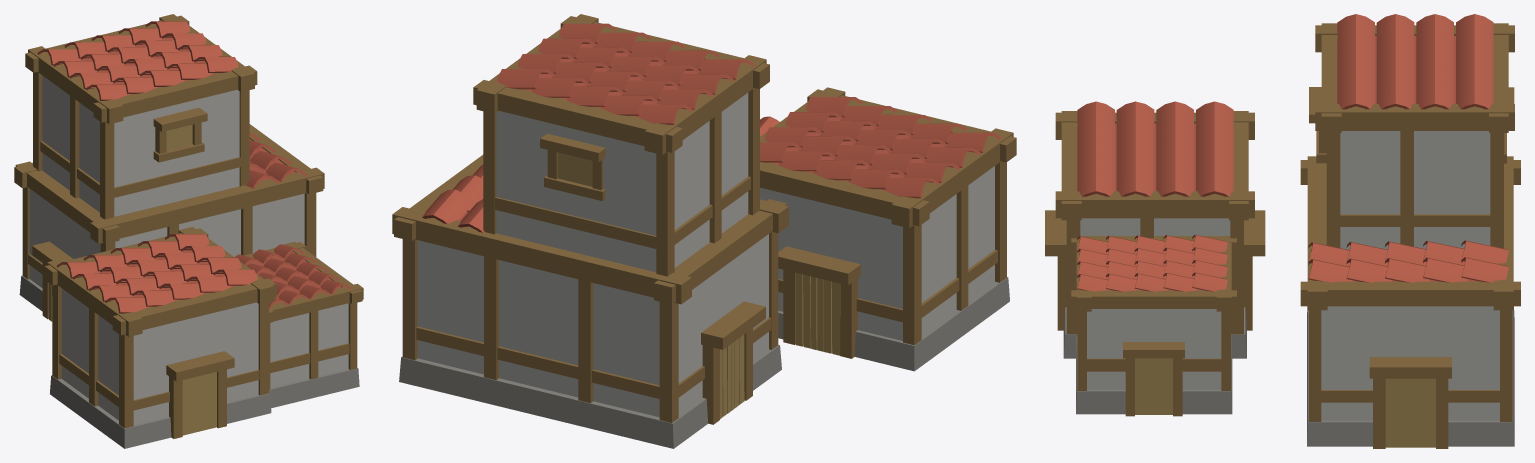
File: quaternius-real-time-strategy-houses-second-age-3-level-3.glb
3 views of the same model, side by side, from view 1: azimuth 30°, elevation 25°; view 2: azimuth 150°, elevation 25°; view 3: azimuth 270°, elevation 25° (orthographic). The views are drawn at different scales.
Visible parts, largest first — view 1: Houses_SecondAge_3_Level3; view 2: Houses_SecondAge_3_Level3; view 3: Houses_SecondAge_3_Level3.
Part boxes in pixels (left/top/right/bottom): Houses_SecondAge_3_Level3: left=14, top=14, right=363, bottom=448; Houses_SecondAge_3_Level3: left=392, top=14, right=1016, bottom=448; Houses_SecondAge_3_Level3: left=1045, top=14, right=1520, bottom=448.
Bounding box in the file's own units: 1.35 × 1.06 × 1.46.
1 material, 1 textured.
